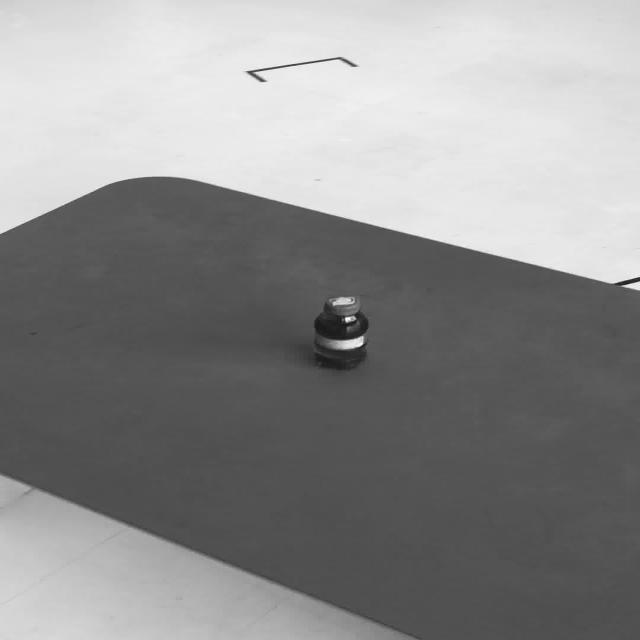guarana: (310, 293, 369, 369), (311, 293, 368, 352)
